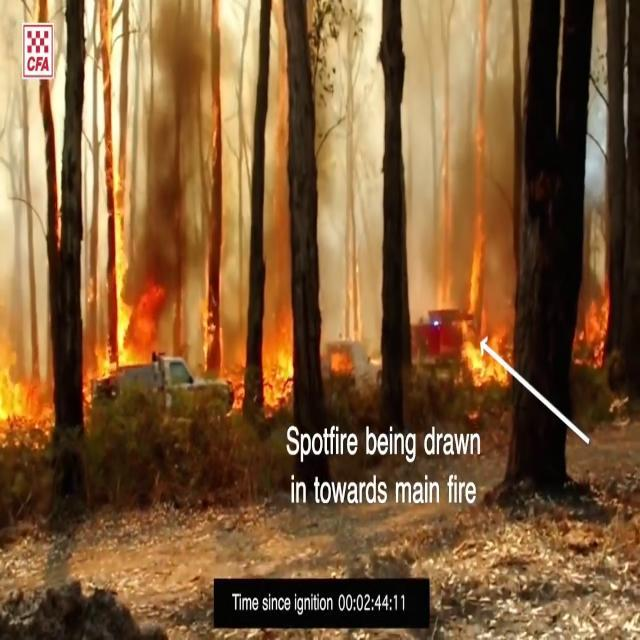Fire: (86, 196, 252, 398), (438, 214, 510, 388), (0, 263, 57, 448), (260, 304, 296, 410)
Smoke: (136, 0, 222, 268)
